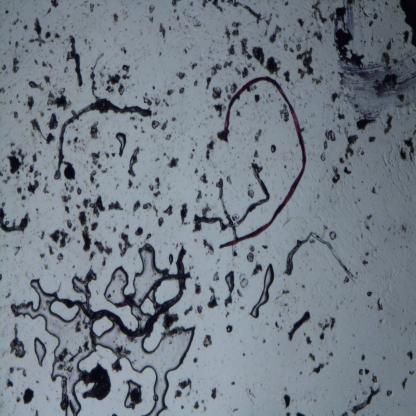Air bubble: (11, 276, 90, 416), (97, 327, 194, 415), (129, 245, 163, 302), (250, 263, 274, 319), (104, 266, 129, 306), (33, 336, 47, 369), (224, 269, 235, 296), (116, 132, 128, 152), (225, 323, 233, 334), (270, 144, 276, 154)
Background material: (78, 362, 112, 404), (54, 340, 87, 372), (397, 0, 416, 50), (350, 384, 380, 415), (29, 113, 56, 147), (5, 147, 28, 180), (308, 1, 326, 43), (286, 310, 310, 341), (8, 322, 27, 360), (106, 64, 129, 94), (296, 45, 316, 79), (45, 86, 73, 110), (30, 18, 51, 49), (319, 129, 337, 164), (122, 380, 143, 409), (90, 53, 102, 97), (88, 151, 104, 184), (344, 128, 360, 161), (174, 374, 194, 400), (175, 8, 203, 26), (316, 318, 336, 342), (82, 198, 106, 218), (399, 136, 416, 164), (26, 166, 42, 195), (50, 229, 70, 249), (223, 21, 241, 43), (92, 240, 113, 258), (274, 307, 287, 336), (116, 233, 132, 256), (210, 60, 233, 76), (161, 312, 180, 331), (129, 149, 141, 179), (201, 1, 225, 16), (354, 117, 379, 131), (129, 114, 146, 134), (80, 225, 93, 251), (251, 45, 265, 68), (148, 175, 161, 199), (264, 54, 280, 73), (267, 25, 282, 45), (142, 202, 160, 218), (240, 36, 252, 60), (143, 90, 161, 106), (330, 164, 342, 188), (60, 192, 72, 215), (88, 120, 100, 142), (310, 362, 327, 377), (279, 100, 290, 123), (22, 387, 36, 405), (110, 352, 122, 373), (202, 237, 215, 256), (39, 174, 50, 196), (205, 140, 217, 160), (382, 113, 392, 137), (180, 203, 191, 224), (166, 155, 181, 170), (216, 128, 230, 144), (238, 270, 249, 290), (14, 184, 26, 202), (201, 334, 214, 350), (213, 103, 226, 118), (28, 78, 44, 90), (10, 55, 20, 74), (363, 213, 373, 232), (265, 13, 273, 36), (282, 392, 292, 410), (107, 202, 124, 212), (250, 264, 263, 277), (309, 74, 323, 86), (235, 66, 248, 78), (163, 204, 174, 218), (224, 294, 235, 308), (132, 226, 146, 237), (158, 22, 166, 40), (212, 87, 222, 101), (193, 282, 203, 296), (247, 247, 255, 264), (376, 297, 384, 314), (358, 366, 369, 378), (183, 305, 194, 317), (199, 172, 209, 185), (79, 211, 87, 227), (282, 69, 291, 83), (5, 378, 15, 390), (156, 217, 166, 229), (159, 119, 169, 131), (14, 242, 22, 257), (40, 60, 53, 69), (67, 137, 80, 146), (227, 43, 235, 57), (195, 188, 203, 202), (328, 231, 338, 242), (202, 206, 212, 217), (370, 373, 380, 384), (245, 188, 255, 199), (150, 119, 160, 130), (30, 153, 40, 164), (65, 218, 74, 230), (253, 130, 262, 142), (406, 350, 415, 362), (132, 200, 141, 212), (210, 387, 218, 400), (27, 97, 35, 110), (56, 252, 66, 262), (90, 221, 100, 231), (211, 272, 221, 282), (50, 0, 60, 10), (190, 77, 199, 88), (330, 92, 339, 103), (177, 71, 186, 82), (112, 11, 119, 25), (362, 252, 369, 266), (371, 182, 378, 196), (401, 376, 408, 390), (206, 74, 212, 90), (385, 387, 393, 399), (43, 74, 51, 86), (297, 16, 304, 29), (337, 110, 346, 120), (11, 17, 20, 27), (190, 60, 199, 70), (343, 166, 352, 176), (38, 229, 46, 240), (0, 61, 8, 72), (225, 176, 233, 186), (192, 400, 200, 410), (182, 47, 192, 55), (89, 0, 94, 16), (48, 244, 54, 257), (14, 37, 20, 50), (230, 83, 237, 94), (359, 352, 366, 363), (308, 352, 316, 361), (54, 32, 62, 41), (127, 177, 133, 189), (177, 86, 186, 94), (368, 135, 378, 142), (148, 4, 155, 14), (254, 93, 260, 104), (366, 290, 374, 298), (196, 306, 204, 314), (164, 133, 173, 140), (306, 336, 312, 346), (164, 88, 174, 94), (338, 156, 345, 164), (260, 243, 268, 250), (168, 252, 172, 266), (254, 150, 260, 159), (77, 184, 81, 196), (171, 1, 178, 7), (284, 42, 288, 52), (295, 411, 304, 415), (280, 291, 287, 296), (0, 88, 6, 93), (14, 112, 18, 119)
Cellulose filter fibre: (54, 247, 188, 336), (57, 97, 153, 173), (193, 164, 270, 230), (283, 232, 356, 278), (216, 181, 238, 257), (82, 269, 97, 354), (63, 34, 84, 91), (0, 208, 32, 235), (226, 0, 262, 24), (206, 285, 220, 310), (122, 42, 132, 53)
Cotton: (220, 76, 308, 251)
Diatom: (64, 166, 74, 179)
Pen: (331, 0, 416, 115)
